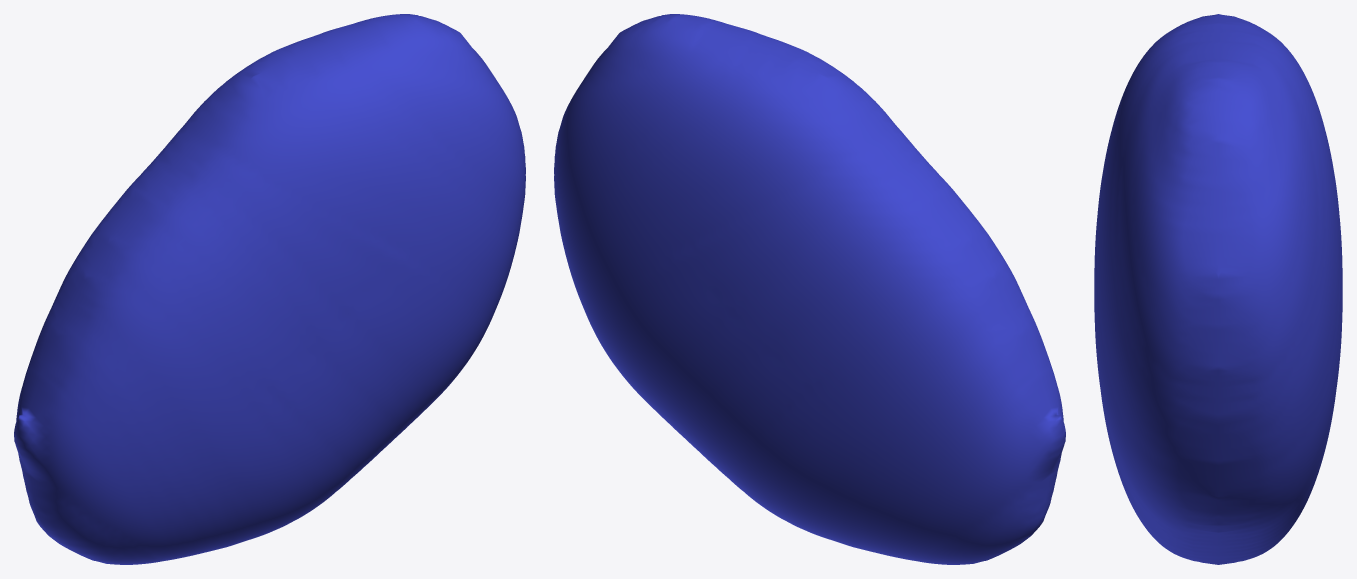
The model's file is check.fbx.
The picture shows the model from 3 angles, left to right: view 1: azimuth 30°, elevation 25°; view 2: azimuth 150°, elevation 25°; view 3: azimuth 270°, elevation 25°; orthographic projection. The views are drawn at different scales.
Visible parts, largest first — view 1: root; view 2: root; view 3: root.
Part boxes in pixels (x1,y1,x2,y2): root: [14, 14, 525, 564]; root: [554, 14, 1065, 564]; root: [1094, 14, 1342, 564].
Bounding box in the file's own units: 0.5535 × 0.5055 × 0.1992.
